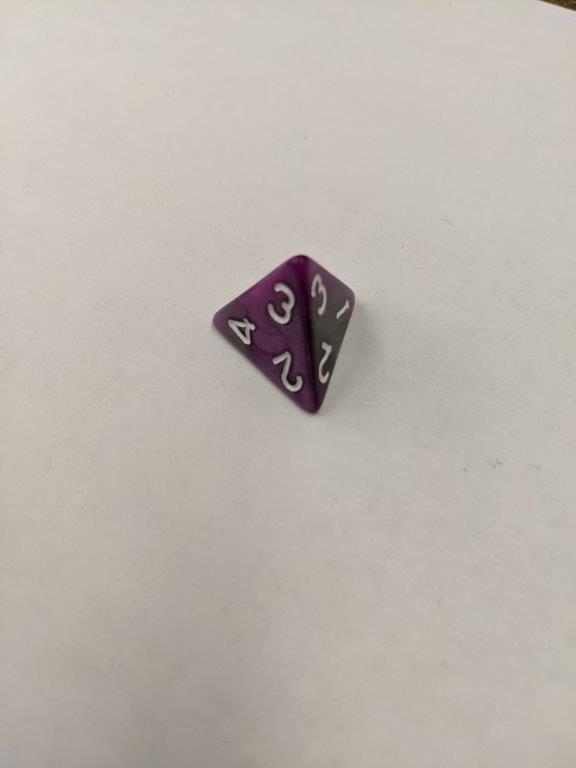d4-3: (205, 251, 362, 419)
